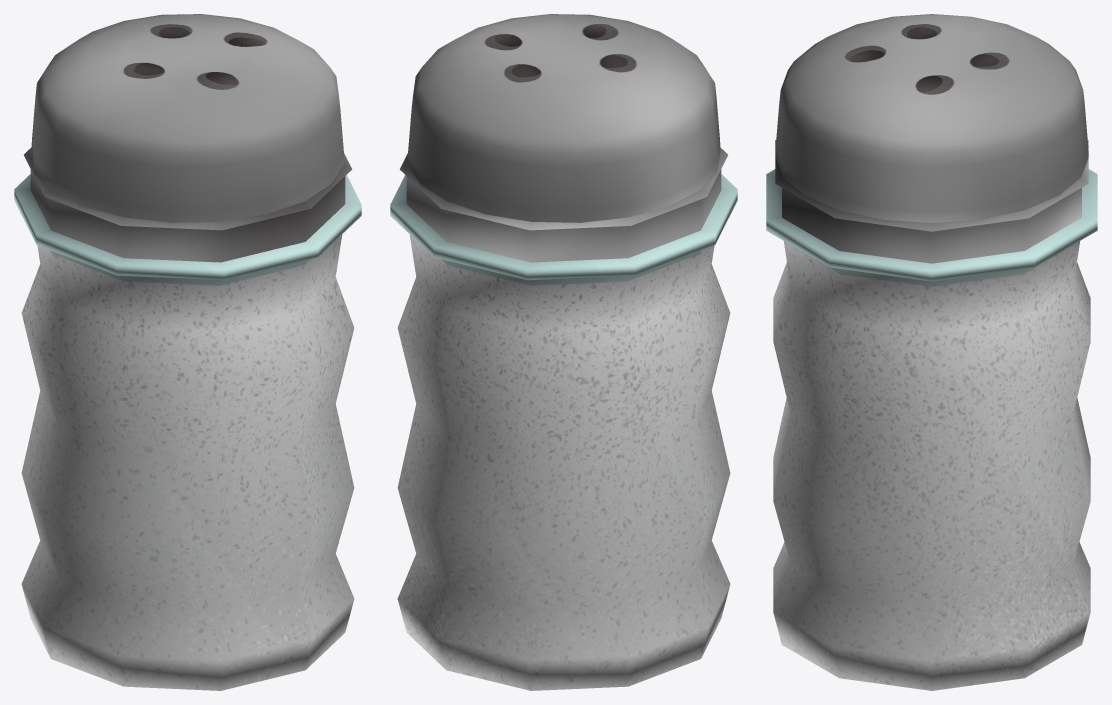
The model's file is Salt.fbx.
3 renders of one model, left to right at view 1: azimuth 30°, elevation 25°; view 2: azimuth 150°, elevation 25°; view 3: azimuth 270°, elevation 25°, orthographic.
Parts seen in each view (by area): view 1: Salt; view 2: Salt; view 3: Salt.
Boxes of the visible parts, x1,y1,x2,y2 form: Salt: (14, 14, 361, 690); Salt: (390, 14, 737, 690); Salt: (766, 14, 1097, 690).
Bounding box in the file's own units: 18.3 × 32.97 × 17.41.
Materials: 1 (1 with a texture image).
